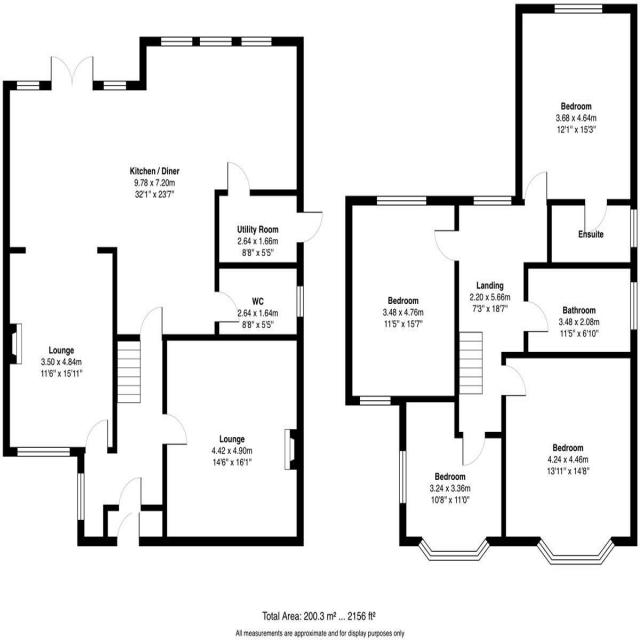DOOR: (432, 225, 460, 266), (523, 298, 552, 335), (460, 431, 488, 469), (296, 209, 325, 245), (162, 411, 190, 448), (501, 362, 529, 399), (523, 168, 549, 206), (226, 159, 252, 196), (138, 304, 164, 341), (84, 416, 109, 454), (117, 475, 143, 511), (115, 511, 141, 547)
DOUBLE DOOR: (48, 53, 95, 91)
ROOM: (3, 34, 304, 457), (162, 334, 304, 547), (501, 352, 638, 566), (515, 4, 638, 205), (346, 195, 460, 405), (399, 395, 502, 563)
WINDOW: (533, 535, 617, 567), (414, 536, 494, 564), (15, 444, 72, 460), (552, 1, 605, 17), (374, 193, 428, 208), (397, 448, 409, 506), (75, 468, 86, 525), (472, 194, 513, 208), (629, 280, 639, 333), (13, 78, 43, 95), (159, 34, 193, 48), (357, 394, 392, 407), (629, 207, 639, 250), (199, 36, 232, 48), (295, 283, 306, 318), (241, 36, 272, 48), (102, 79, 127, 92)
